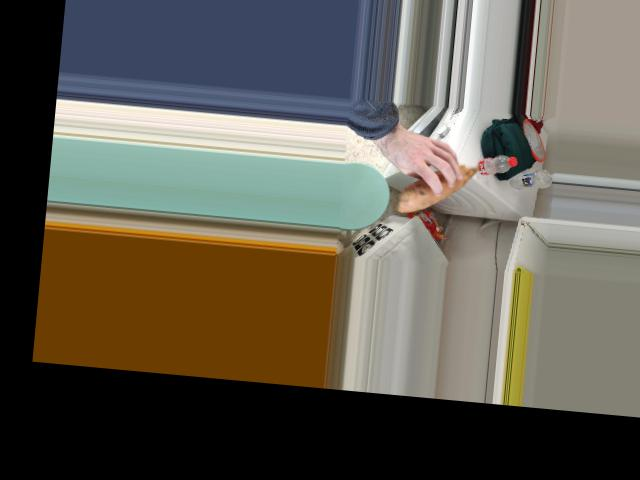sweet_potato: (407, 151, 475, 218)
